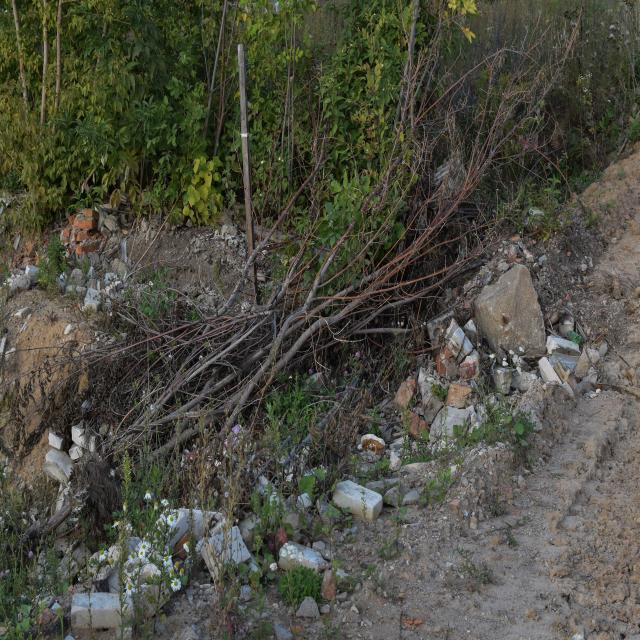restos de madeira: (390, 11, 570, 294), (233, 162, 337, 342), (323, 239, 417, 414), (361, 2, 422, 258), (158, 373, 252, 472), (148, 322, 252, 410), (6, 338, 92, 432), (64, 441, 142, 542), (76, 342, 146, 434), (122, 302, 232, 353), (210, 223, 266, 296), (126, 201, 174, 281), (17, 498, 80, 549)
